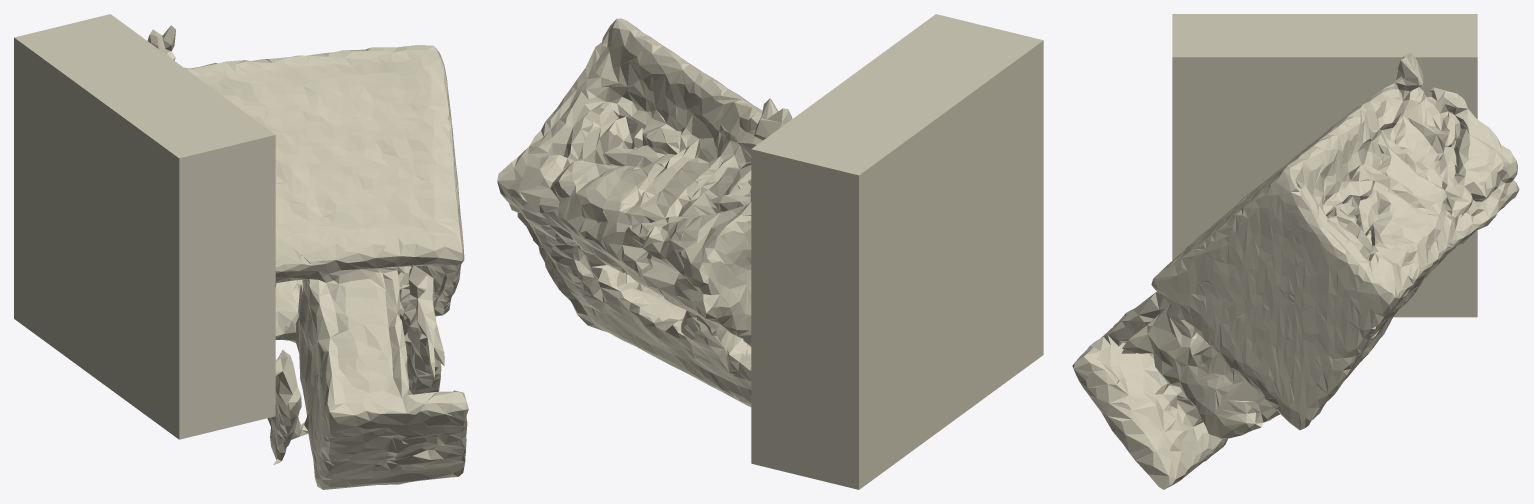
File: improved.glb
3 views of the same model, side by side, from view 1: azimuth 30°, elevation 25°; view 2: azimuth 150°, elevation 25°; view 3: azimuth 270°, elevation 25° (orthographic). The views are drawn at different scales.
Visible parts, largest first — view 1: world; view 2: world; view 3: world.
Boxes of the visible parts, x1,y1,x2,y2 form: world: (14,14,468,489); world: (497,14,1043,489); world: (1072,14,1519,489).
Bounding box in the file's own units: 1.32 × 1.36 × 1.49.
